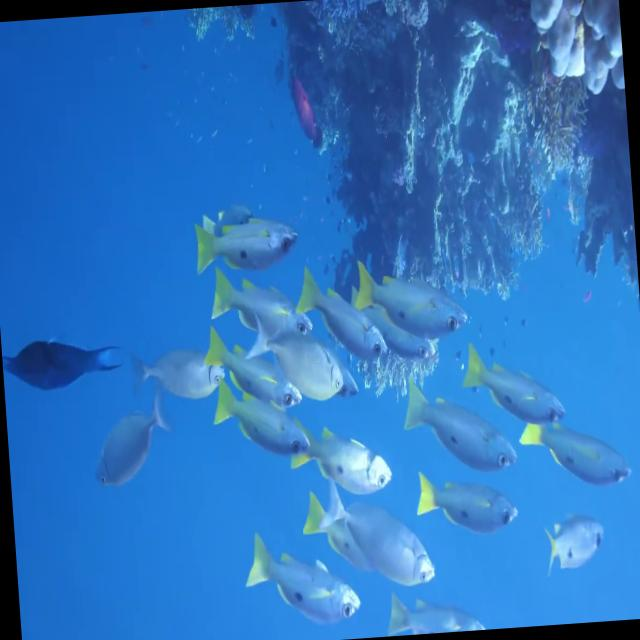fish: (324, 474, 449, 602), (232, 530, 370, 638), (350, 240, 473, 348), (394, 378, 520, 482), (515, 406, 636, 506), (241, 301, 348, 408), (184, 200, 308, 292), (411, 462, 527, 558), (83, 392, 176, 511), (447, 344, 572, 431), (299, 404, 396, 515), (293, 260, 387, 370), (0, 316, 127, 397), (198, 318, 300, 418), (209, 374, 313, 466), (195, 278, 314, 348), (344, 277, 428, 374), (131, 337, 229, 416), (536, 502, 612, 585), (378, 580, 486, 636)
